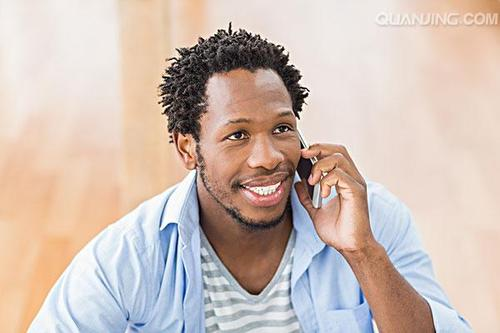calling: (292, 126, 373, 251)
